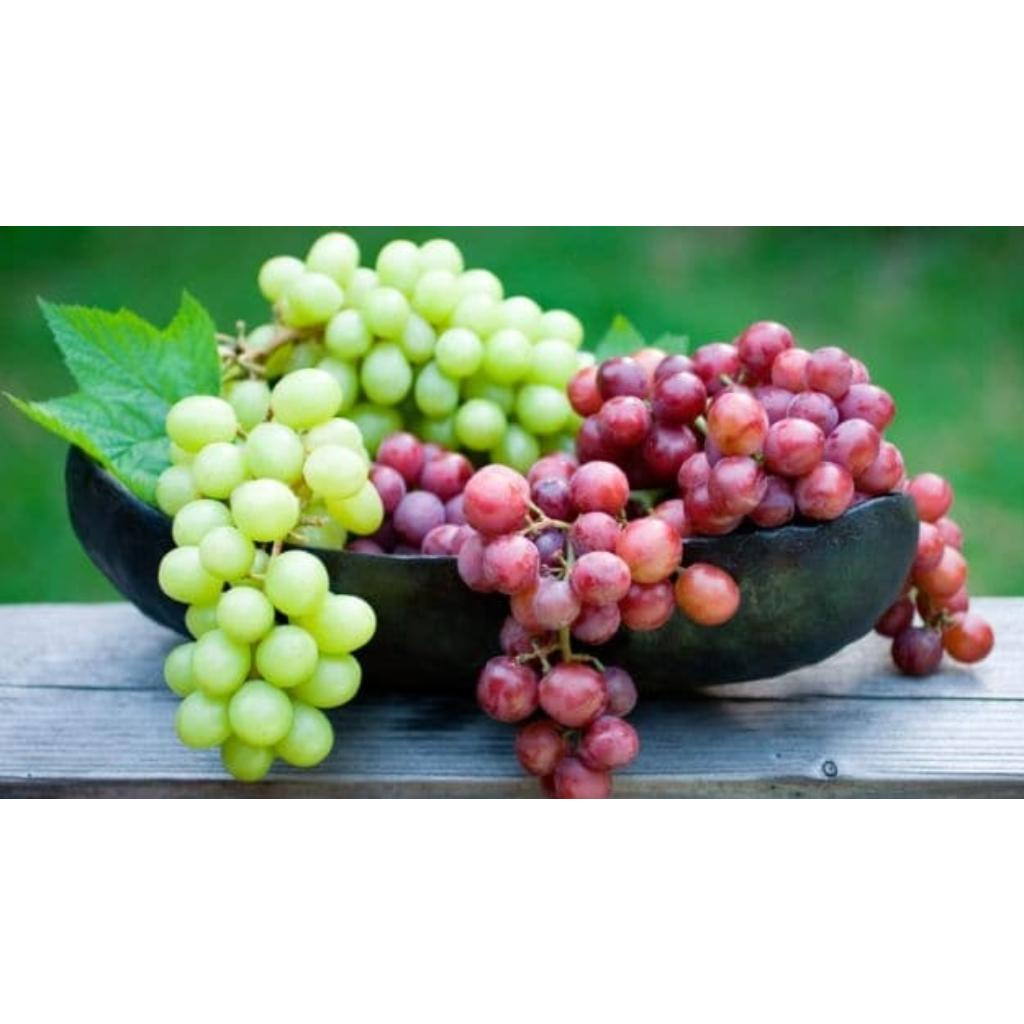grape: (156, 232, 990, 794), (157, 368, 378, 777), (493, 379, 582, 453), (395, 397, 488, 464)
